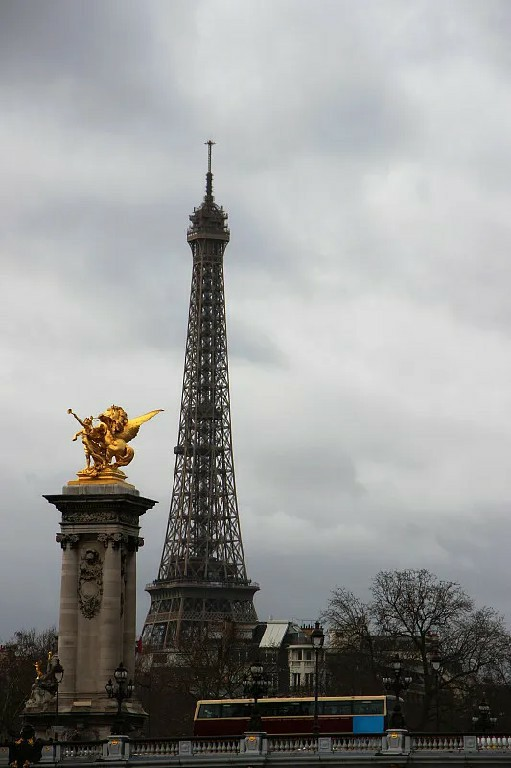Eiffel: (136, 142, 261, 674)
